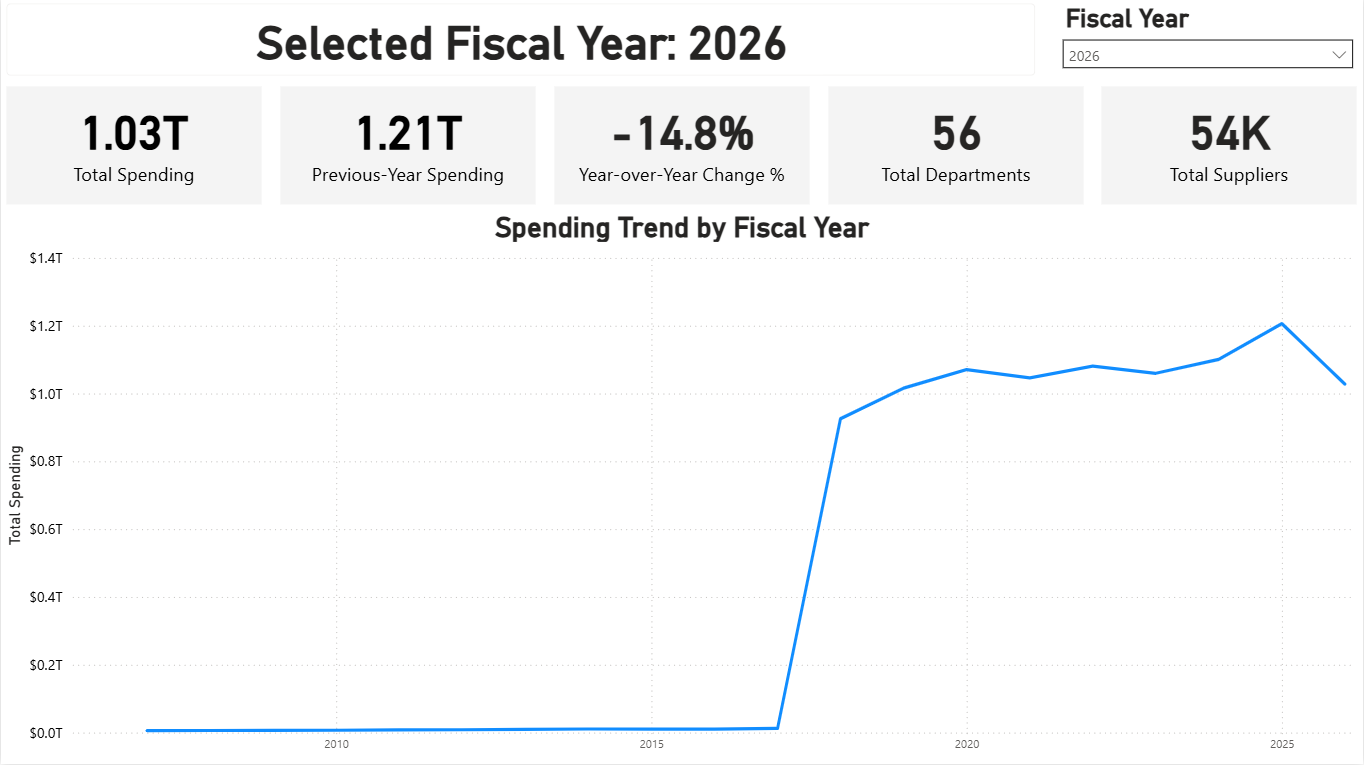

The dashboard page shown, as its layout file describes it:
{"tool":"powerbi","page":{"name":"Executive Overview","canvas":[1280,720],"ordinal":0},"visuals":[{"type":"cardVisual","title":"Total Sale","fields":{"Data":["_measures.Previous-Year Spending"]},"box":[257.9,77.9,250,121.5],"z":0},{"type":"cardVisual","title":"Total Sale","fields":{"Data":["_measures.Year-over-Year Change %"]},"box":[515,77.9,250,121.5],"z":1000},{"type":"cardVisual","title":"Total Sale","fields":{"Data":["_measures.Total Departments"]},"box":[772.1,77.9,250,121.5],"z":2000},{"type":"cardVisual","title":"Total Sale","fields":{"Data":["_measures.Total Suppliers"]},"box":[1029.3,77.9,250.7,121.5],"z":3000},{"type":"cardVisual","title":"Total Sale","fields":{"Data":["_measures.Total Spending"]},"box":[0,77.9,250.7,121.5],"z":4000},{"type":"lineChart","title":"Spending Trend by Fiscal Year","fields":{"Y":["Sum(batch_spending_by_fiscal_year.total_vouchers_paid)"],"Category":["dim_fiscal_year.fiscal_year"]},"box":[0,199.3,1280,520.1],"z":5000},{"type":"slicer","fields":{"Values":["dim_fiscal_year.fiscal_year"]},"box":[987.6,0,292.8,78.4],"z":6000},{"type":"cardVisual","fields":{"Data":["_measures.Selected Year"]},"box":[0,0,977.3,78.4],"z":7000}]}

Visuals, with their boxes in screenshot pixels (x1, y1, x2, y2), scaled from the page's 1280x720 canvas onto the 1364x765 screenshot:
"Total Sale" cardVisual: locate(275, 83, 541, 212)
"Total Sale" cardVisual: locate(549, 83, 815, 212)
"Total Sale" cardVisual: locate(823, 83, 1089, 212)
"Total Sale" cardVisual: locate(1097, 83, 1363, 212)
"Total Sale" cardVisual: locate(0, 83, 267, 212)
"Spending Trend by Fiscal Year" lineChart: locate(0, 212, 1363, 764)
slicer - dim_fiscal_year.fiscal_year: locate(1052, 0, 1363, 83)
cardVisual - _measures.Selected Year: locate(0, 0, 1041, 83)
